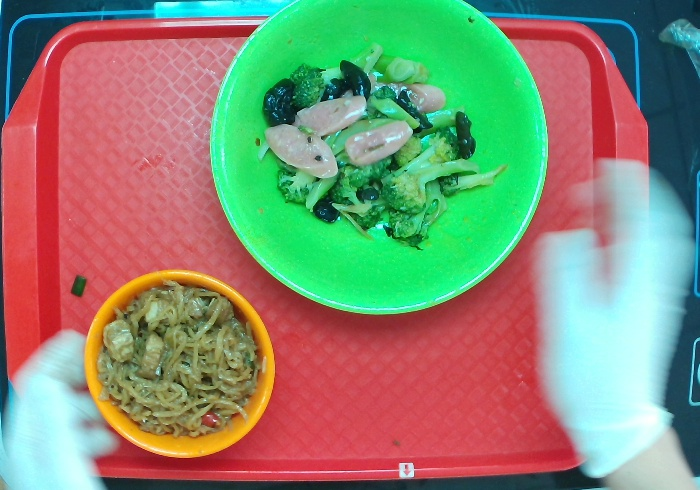YKMZ-Ju_Se_Yuan_Wan: (83, 266, 274, 457)
YKMZ-Lv_Se_Tang_Wan: (206, 1, 551, 316)
